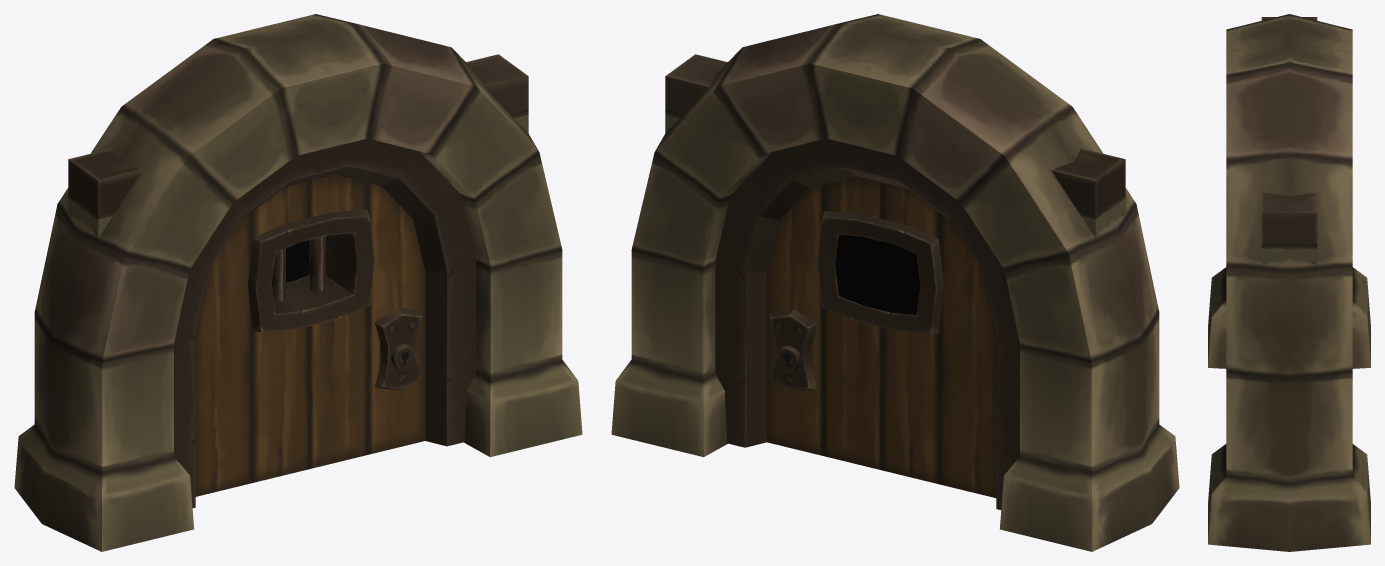
File: ROK0310003.fbx
3 renders of one model, left to right at view 1: azimuth 30°, elevation 25°; view 2: azimuth 150°, elevation 25°; view 3: azimuth 270°, elevation 25°, orthographic. The views are drawn at different scales.
Visible parts, largest first — view 1: smROK0310003; view 2: smROK0310003; view 3: smROK0310003.
Part boxes in pixels (x1,y1,x2,y2): smROK0310003: (14,14,582,551); smROK0310003: (611,14,1179,551); smROK0310003: (1208,14,1370,551).
Size of the model in its own units: 477 by 378 by 141.
1 material, 1 textured.
